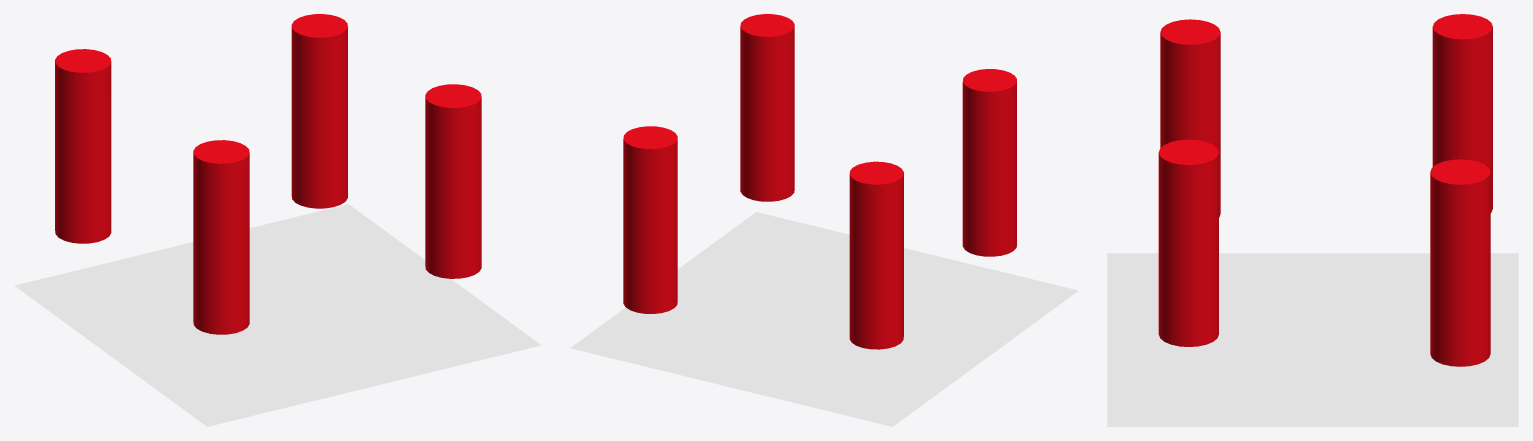
3 renders of one model, left to right at view 1: azimuth 30°, elevation 25°; view 2: azimuth 150°, elevation 25°; view 3: azimuth 270°, elevation 25°, orthographic. The views are drawn at different scales.
Visible parts, largest first — view 1: ImageTargetPreview, Cylinder__3_, Cylinder__1_, Cylinder__2_, Cylinder; view 2: ImageTargetPreview, Cylinder, Cylinder__1_, Cylinder__3_, Cylinder__2_; view 3: ImageTargetPreview, Cylinder__2_, Cylinder__1_, Cylinder, Cylinder__3_.
Part boxes in pixels (<box>): ImageTargetPreview: <box>14,204,541,426</box>; Cylinder__3_: <box>193,140,249,334</box>; Cylinder__1_: <box>425,84,481,278</box>; Cylinder__2_: <box>291,14,347,208</box>; Cylinder: <box>55,49,111,243</box>; ImageTargetPreview: <box>570,212,1078,426</box>; Cylinder: <box>849,161,903,349</box>; Cylinder__1_: <box>740,14,794,201</box>; Cylinder__3_: <box>962,69,1016,256</box>; Cylinder__2_: <box>623,126,677,313</box>; ImageTargetPreview: <box>1107,253,1518,426</box>; Cylinder__2_: <box>1430,159,1490,366</box>; Cylinder__1_: <box>1158,139,1218,346</box>; Cylinder: <box>1432,14,1492,212</box>; Cylinder__3_: <box>1160,19,1220,217</box>.
Bounding box in the file's own units: 102 × 68.3 × 102.
